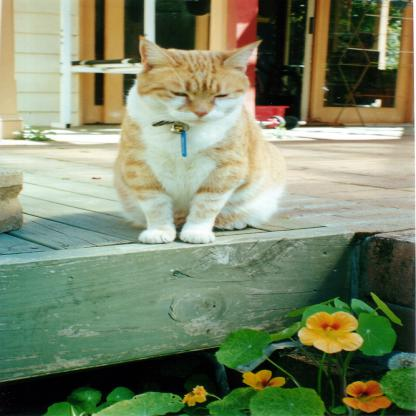cat: (103, 27, 331, 246)
